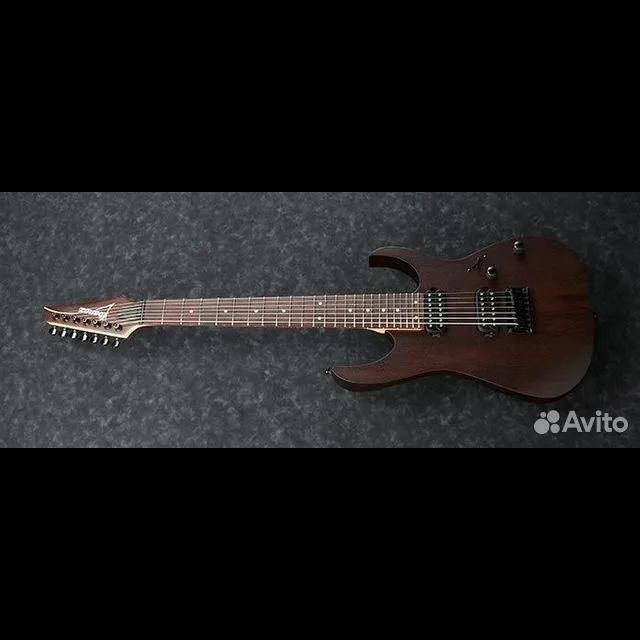Electric-Guitar: (43, 236, 593, 400)
